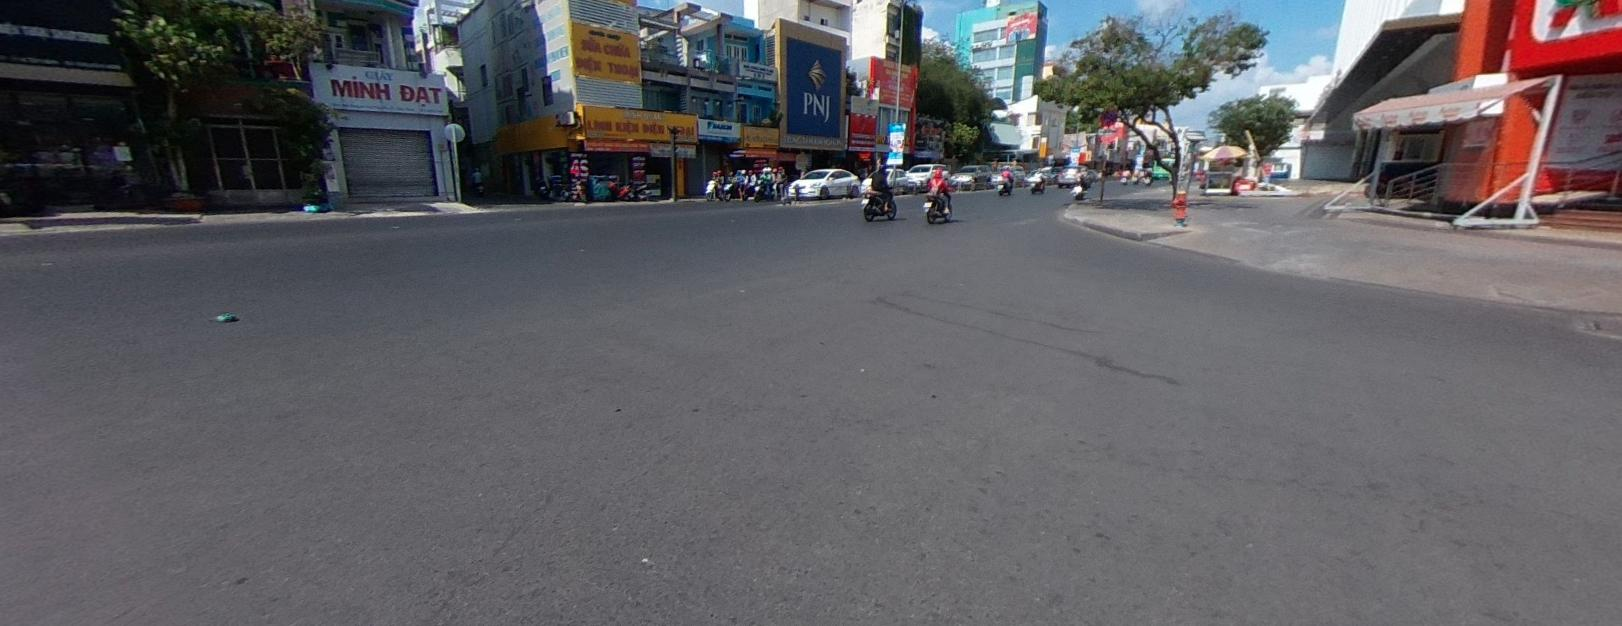Cam dung va do: (1101, 107, 1116, 125)
